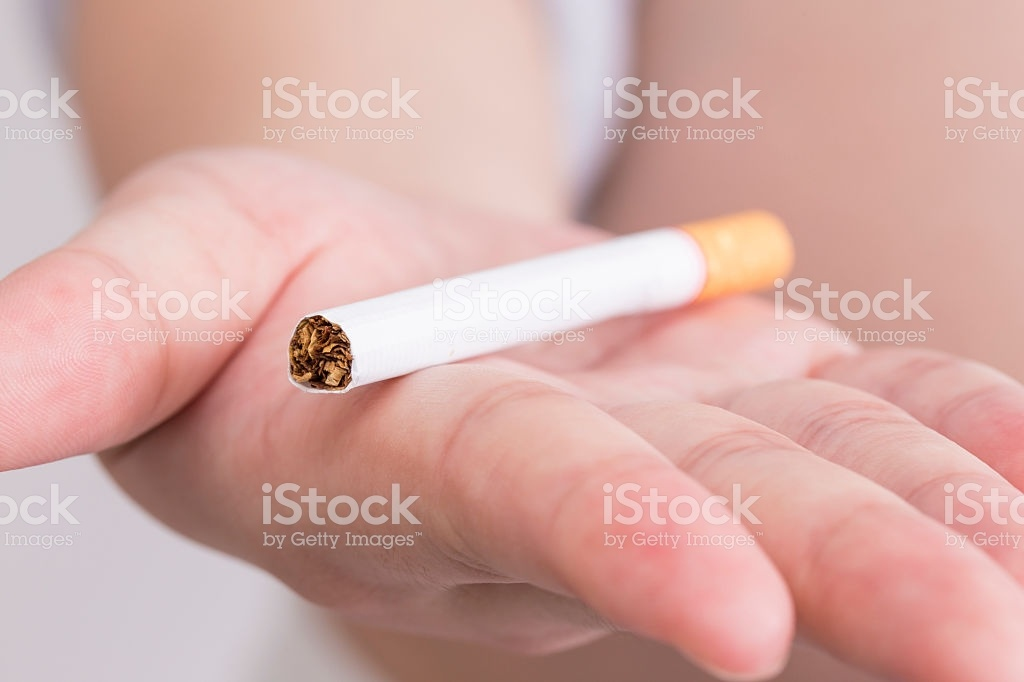sigaretta: (265, 207, 821, 396)
